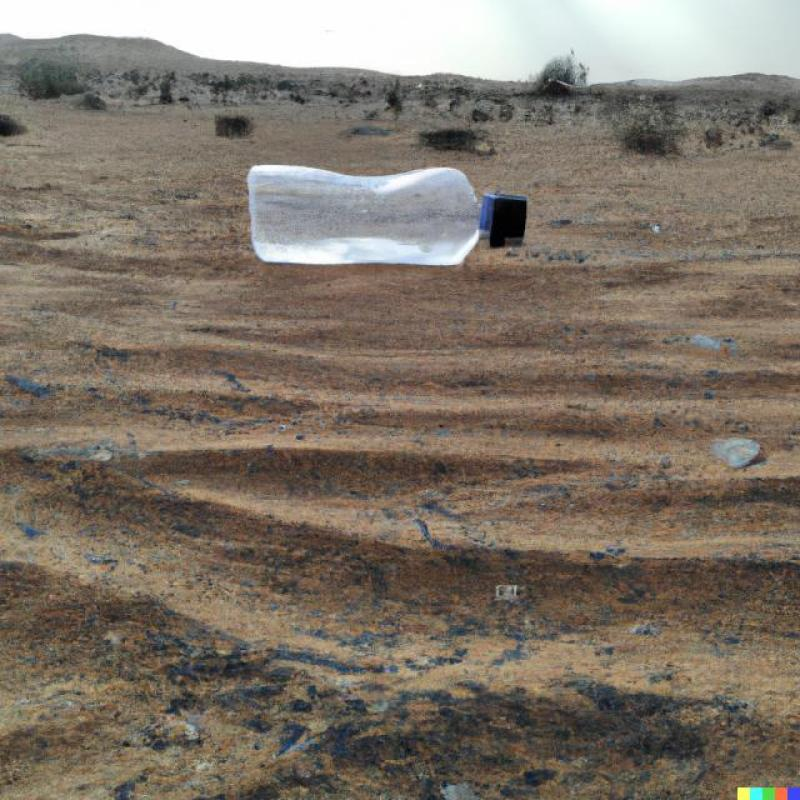botella: (245, 159, 531, 267)
